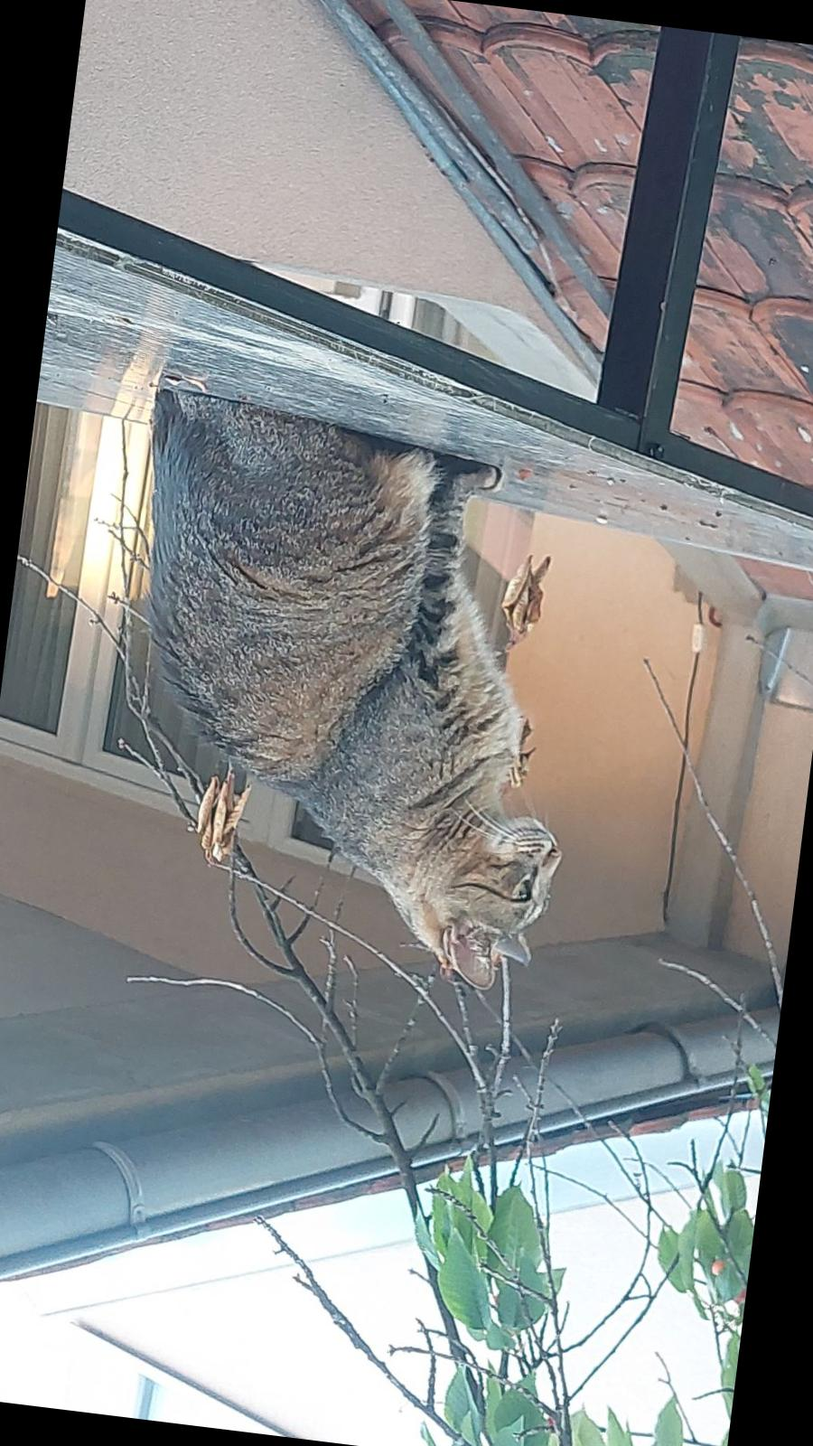macka: (84, 382, 612, 1002)
